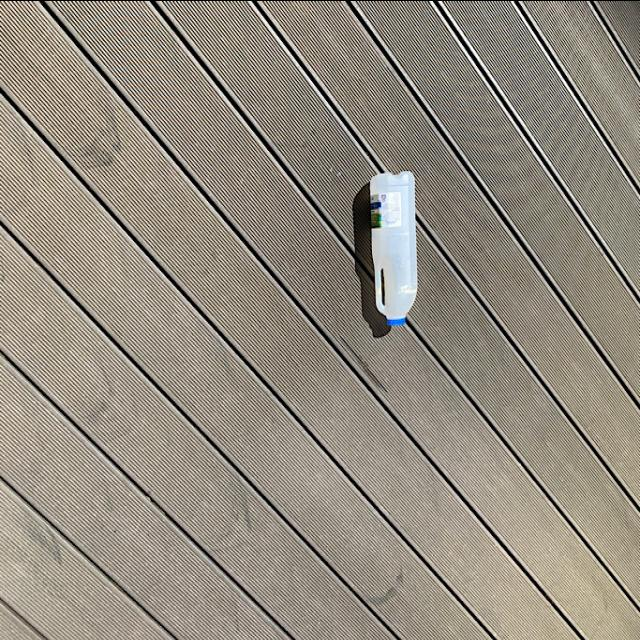litter: (364, 165, 422, 331)
